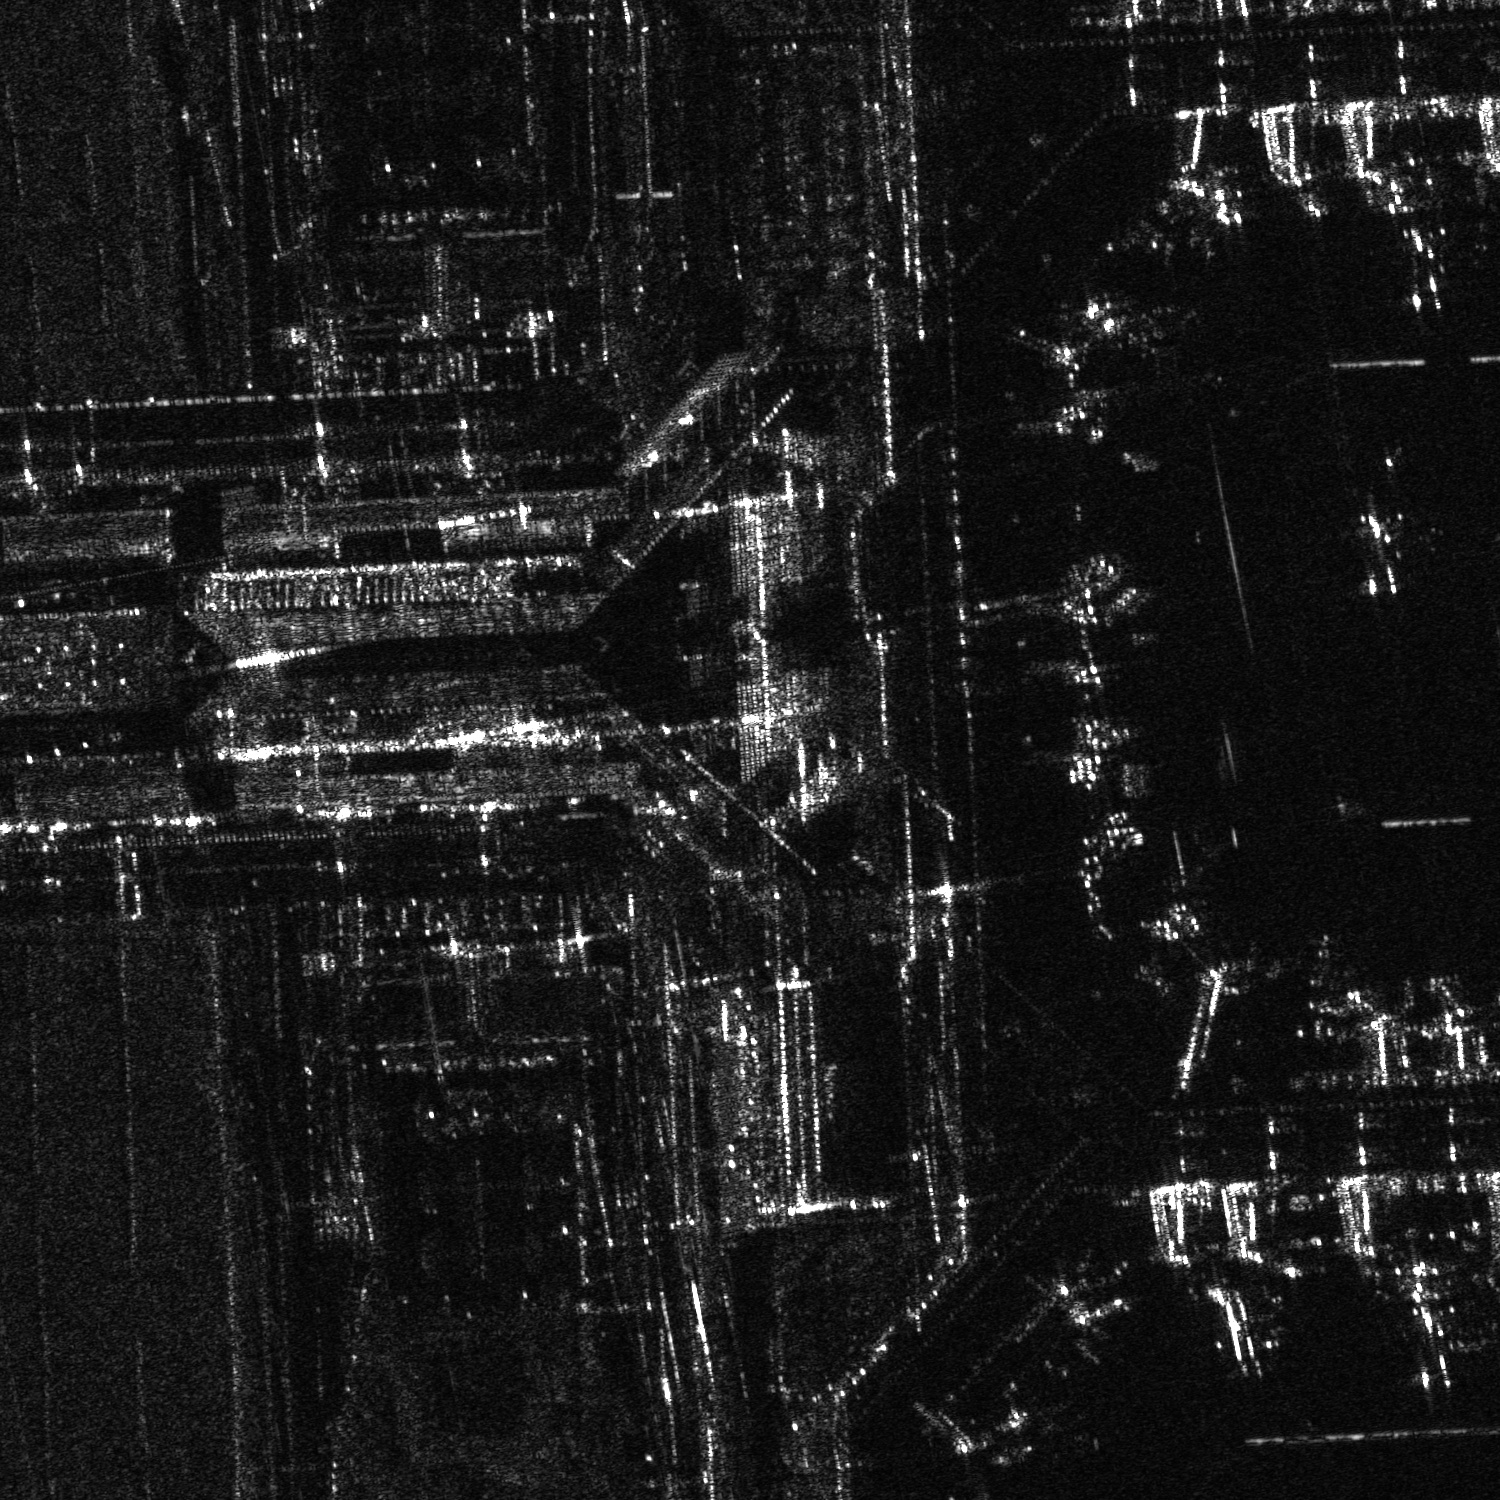Boeing737: (1205, 1280, 1284, 1379)
Boeing787: (1396, 1277, 1474, 1391), (1376, 221, 1462, 316)
other: (1321, 492, 1431, 598)
